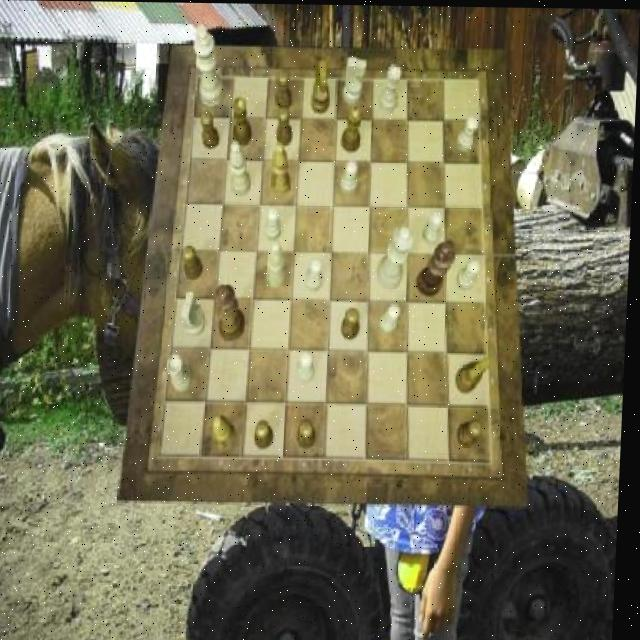bishop: (273, 142, 294, 196), (214, 415, 239, 450)
black-bishop: (419, 237, 458, 295)
black-king: (457, 355, 494, 393), (311, 60, 330, 113)
black-knight: (199, 112, 221, 149), (183, 245, 206, 280), (459, 418, 486, 446), (276, 69, 293, 109), (278, 107, 295, 145), (343, 307, 362, 340), (259, 420, 278, 448), (301, 421, 319, 449)
black-pawn: (214, 282, 249, 341)
black-queen: (233, 97, 255, 146), (341, 105, 362, 151)
black-rook: (230, 141, 254, 196), (267, 240, 289, 288)
white-bishop: (191, 22, 227, 107)
white-king: (182, 292, 210, 337), (343, 56, 367, 104)
white-knight: (457, 115, 479, 151), (458, 258, 482, 290), (424, 210, 445, 245), (298, 350, 318, 383), (381, 302, 402, 333), (307, 256, 325, 291), (341, 159, 359, 194), (266, 205, 283, 240)
white-pawn: (378, 223, 416, 289)
white-queen: (380, 63, 402, 112), (169, 353, 197, 391)
